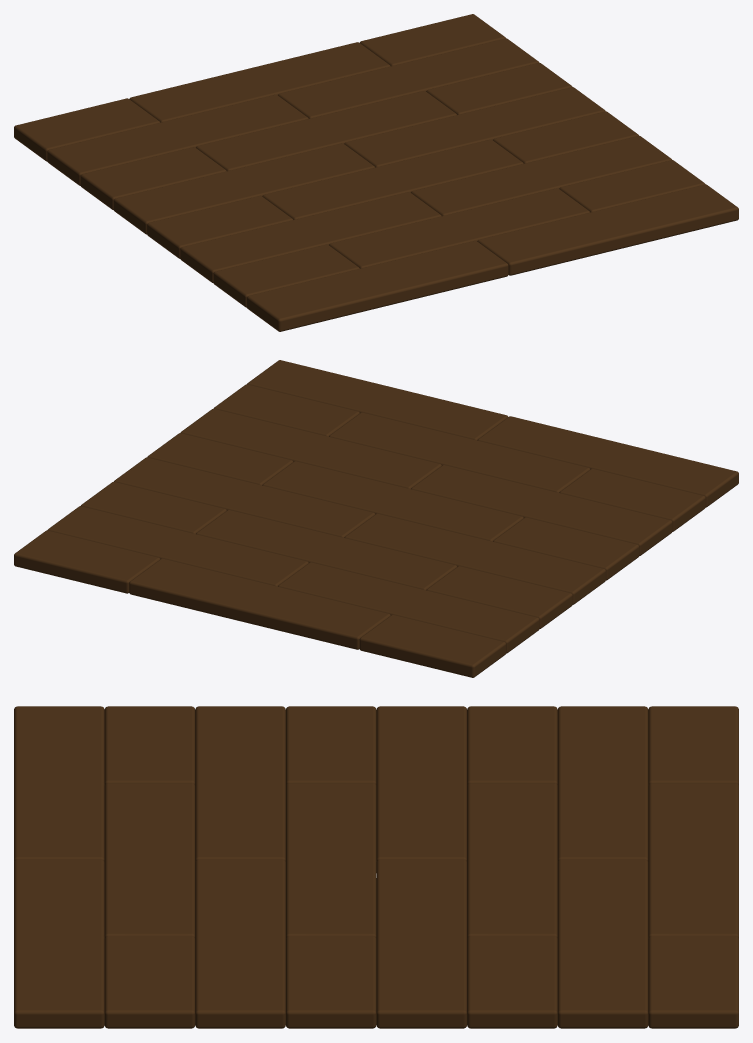
Rendered from floor.fbx.
3 views of the same model, one above another, from view 1: azimuth 30°, elevation 25°; view 2: azimuth 150°, elevation 25°; view 3: azimuth 270°, elevation 25° (orthographic). The views are drawn at different scales.
Visible parts, largest first — view 1: Plane.005; view 2: Plane.005; view 3: Plane.005.
Part boxes in pixels (box(x1,y1,x2,y2)): Plane.005: box(14, 14, 738, 331); Plane.005: box(14, 360, 738, 677); Plane.005: box(14, 706, 738, 1028).
Bounding box in the file's own units: 3114 × 86.05 × 3114.
